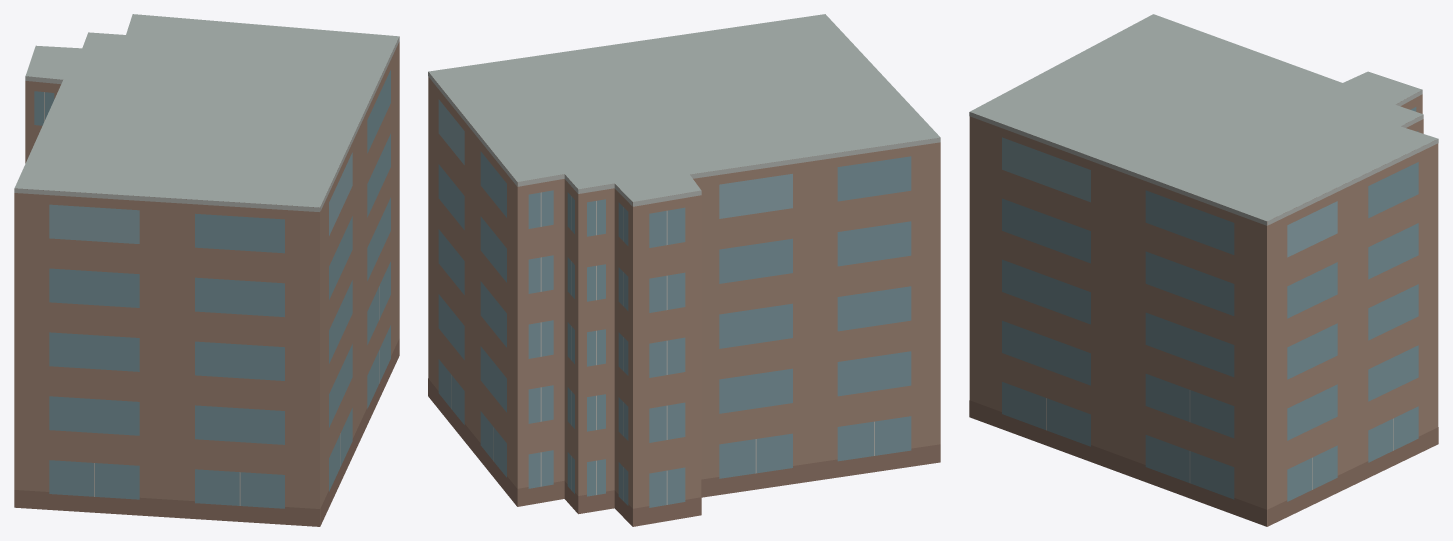
Rendered from survey-upis-32936394.glb.
The picture shows the model from 3 angles, left to right: view 1: azimuth 30°, elevation 25°; view 2: azimuth 150°, elevation 25°; view 3: azimuth 270°, elevation 25°; orthographic projection. The views are drawn at different scales.
Parts seen in each view (by area): view 1: survey-upis-32936394.tmp; view 2: survey-upis-32936394.tmp; view 3: survey-upis-32936394.tmp.
Part boxes in pixels (x1,y1,x2,y2): survey-upis-32936394.tmp: (14, 14, 399, 526); survey-upis-32936394.tmp: (428, 14, 940, 526); survey-upis-32936394.tmp: (969, 14, 1438, 526).
Size of the model in its own units: 24.33 by 16.7 by 23.24.
